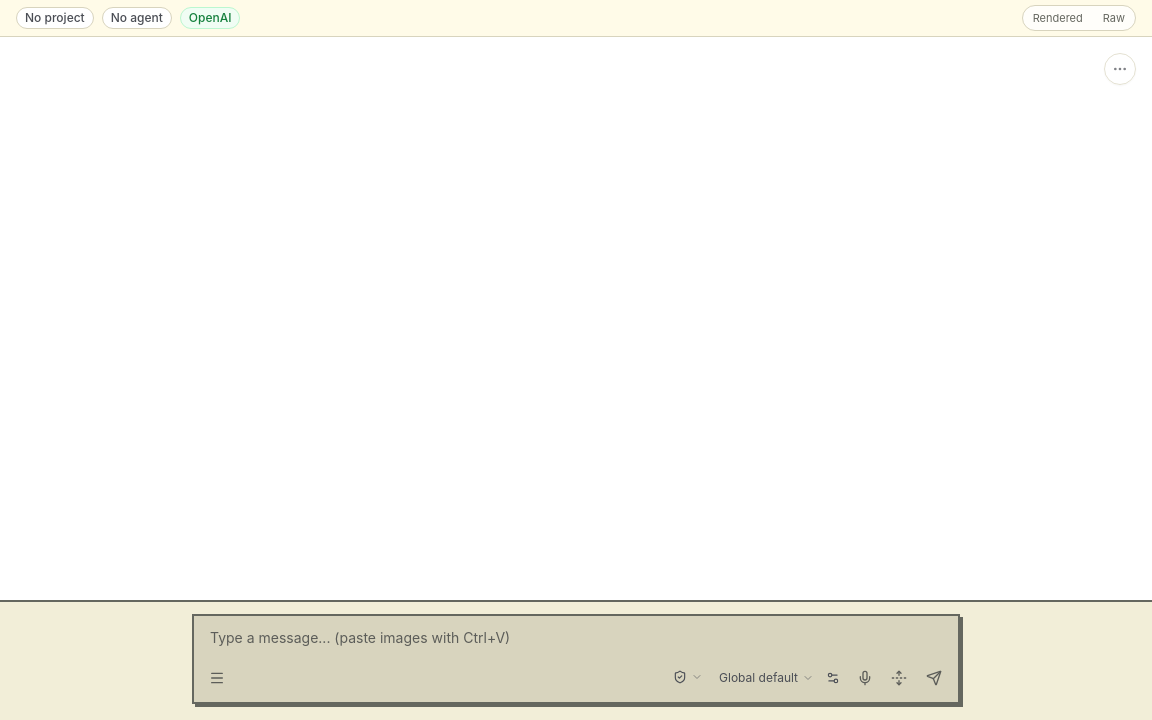
Test: ChatWindow — Streaming › keeps Send available after stop and a model change when a stale active-turn snapshot arrives
In the text box named "message input": [576, 636] box [194,616,958,656], type "First request"
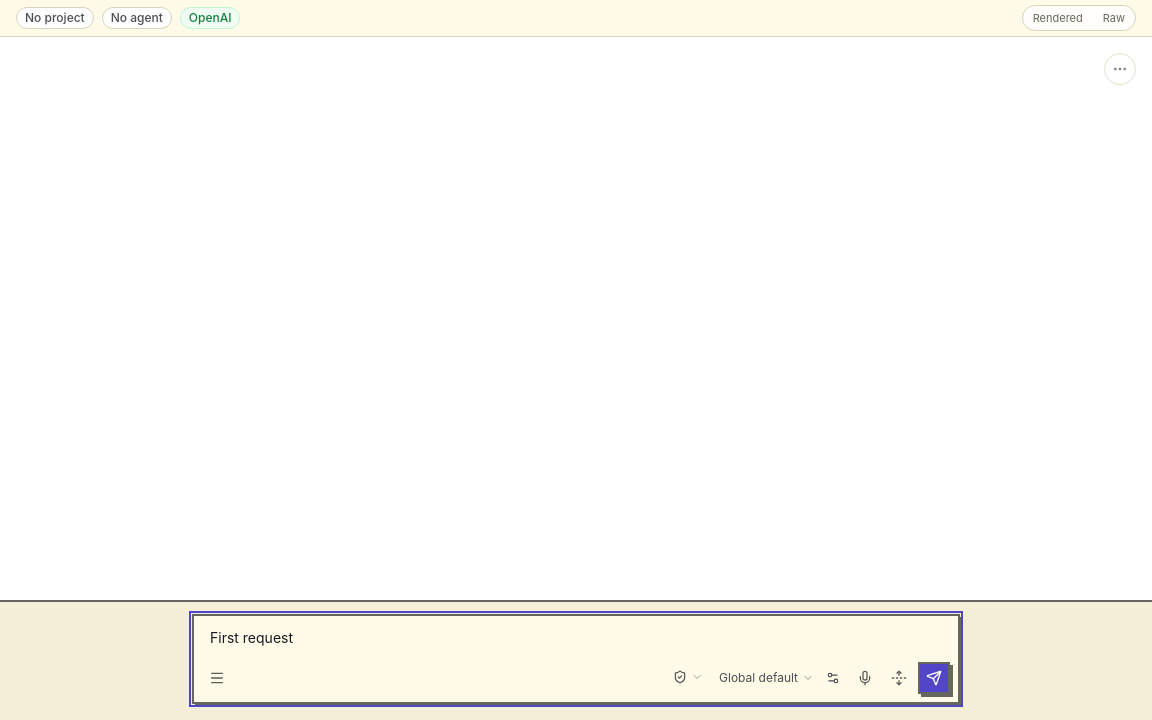
Click the button named "send message": [934, 678] box [918,662,950,694]
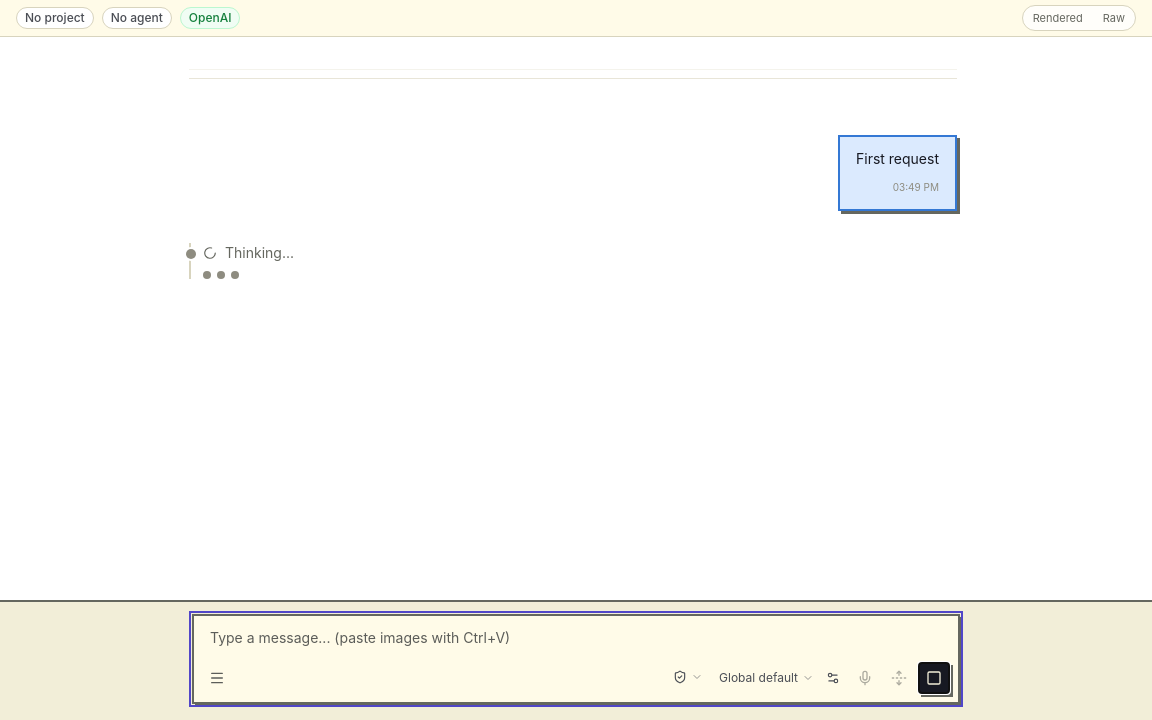
Click the button named "stop generating": [934, 678] box [918,662,950,694]
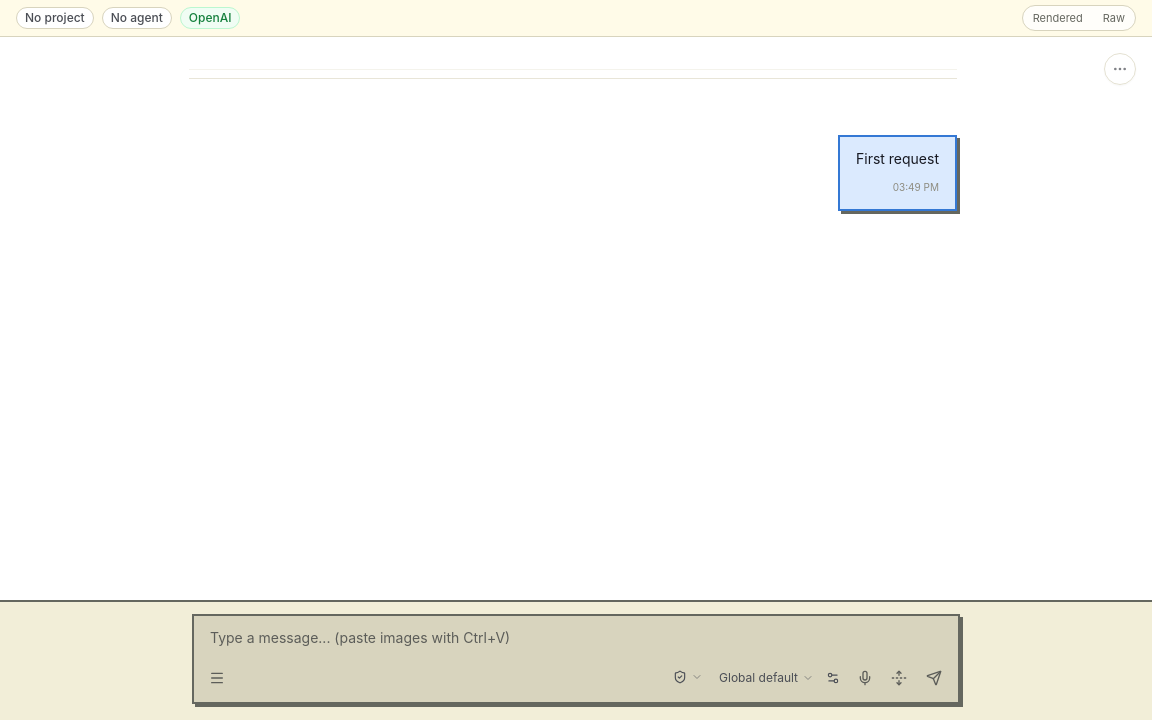
Click the button with aria-label "conversation model": [766, 678] box [713,666,820,690]
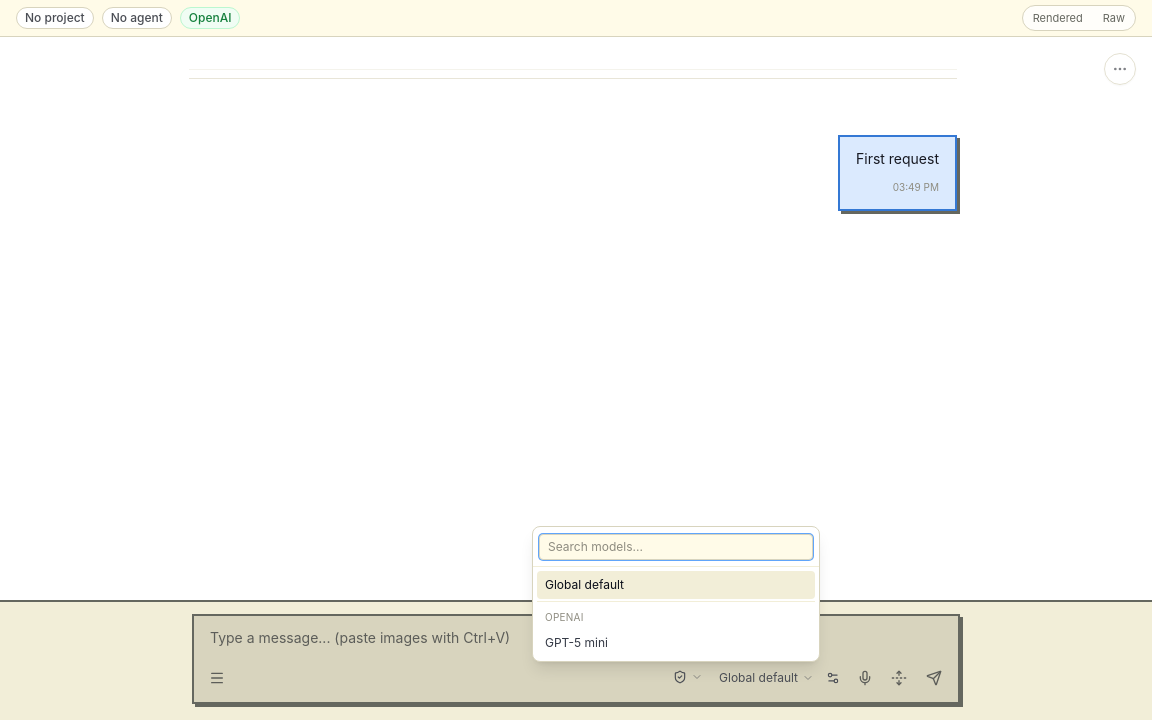
Click the button "GPT-5 mini": [576, 642] box [537,629,815,657]
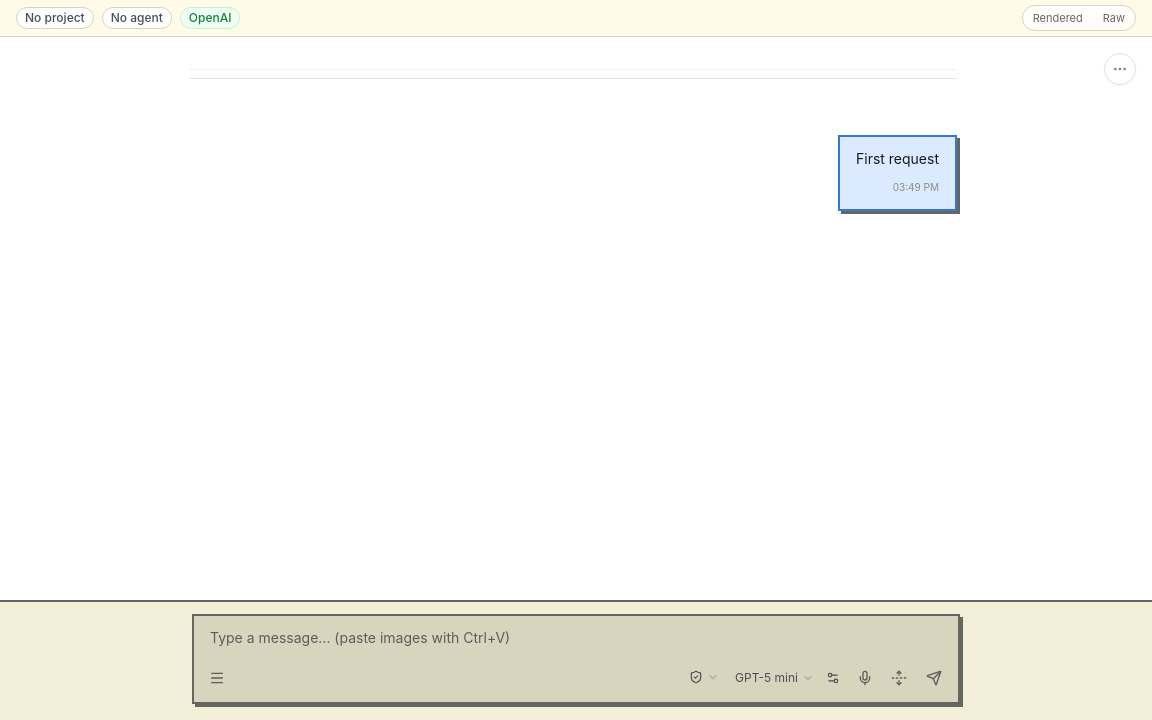
In the text box named "message input": [576, 636] box [194,616,958,656], type "Follow-up with the new model"
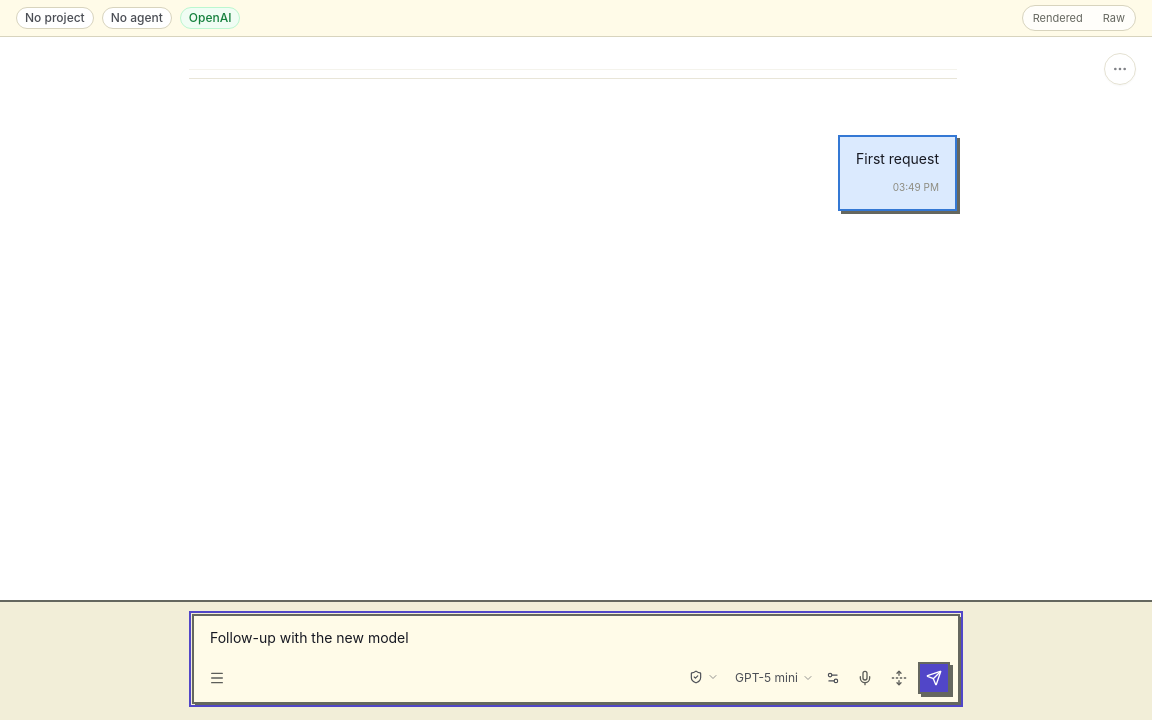
Check: the button named "send message" is enabled, box [918,662,950,694]
